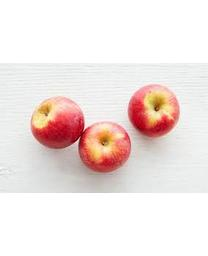apple: (29, 95, 84, 149), (127, 82, 180, 138), (78, 121, 131, 172)
